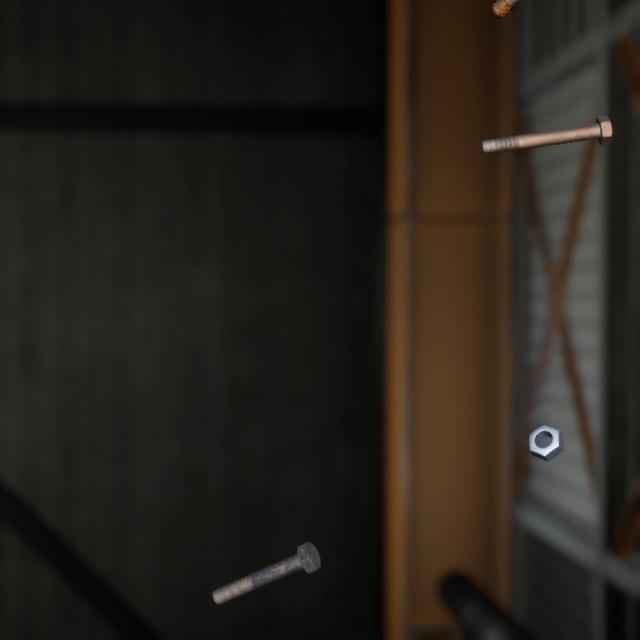bolt: (207, 513, 325, 585), (476, 98, 617, 145)
nut: (524, 399, 567, 445)
